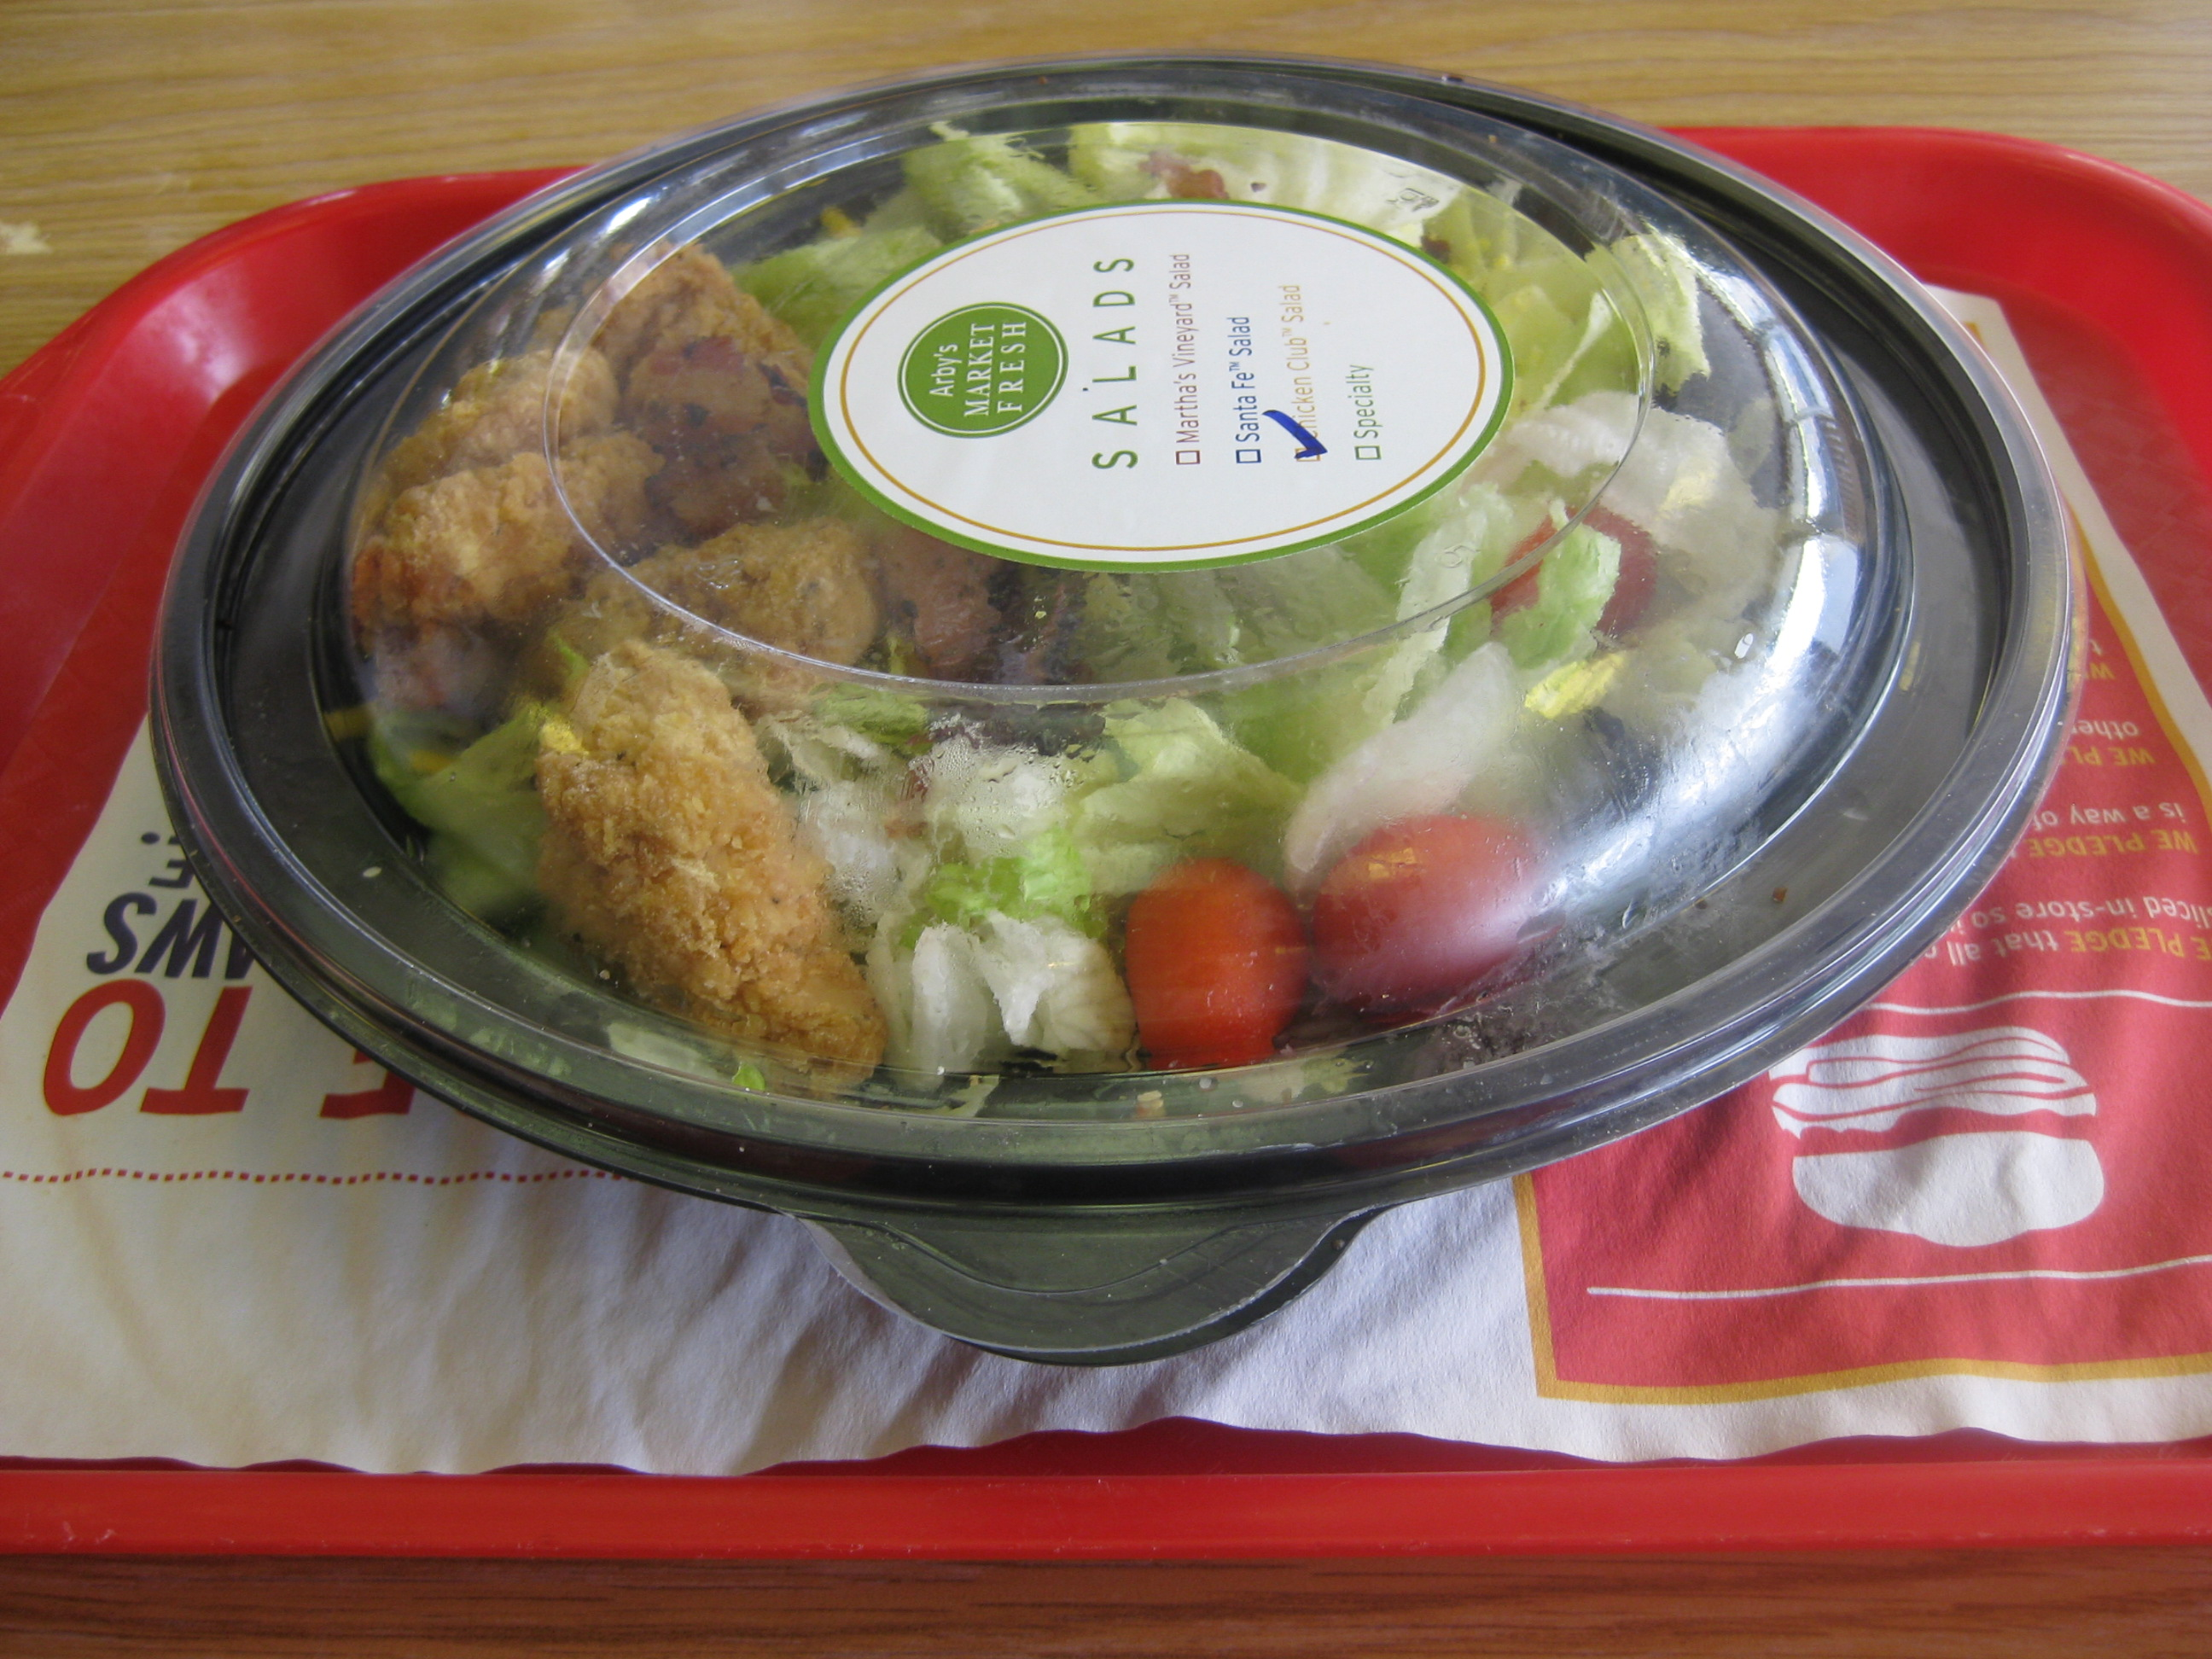salad: (224, 42, 2105, 1167)
